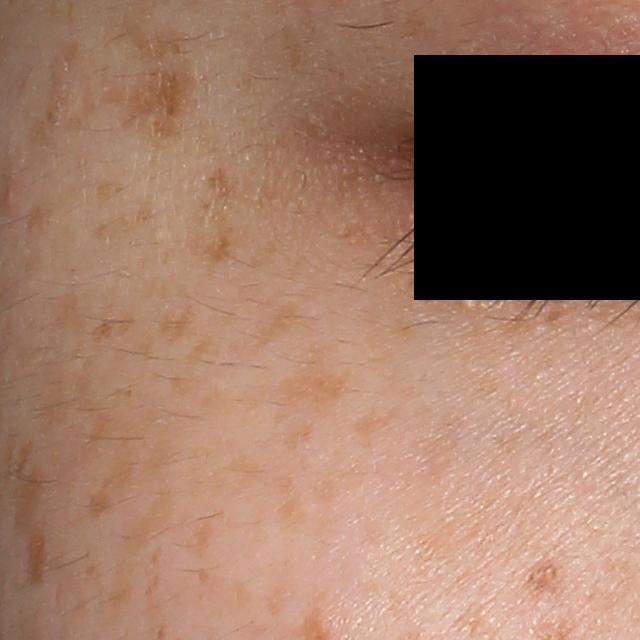melasma: (61, 18, 215, 150), (106, 484, 179, 613), (275, 331, 357, 410), (247, 295, 309, 356), (9, 450, 50, 537), (48, 283, 94, 338), (27, 526, 54, 587), (170, 301, 206, 345), (17, 196, 53, 238), (206, 166, 236, 214), (90, 316, 135, 346), (180, 332, 216, 368), (290, 413, 318, 453), (93, 178, 129, 208), (12, 436, 35, 482), (187, 520, 214, 558)
